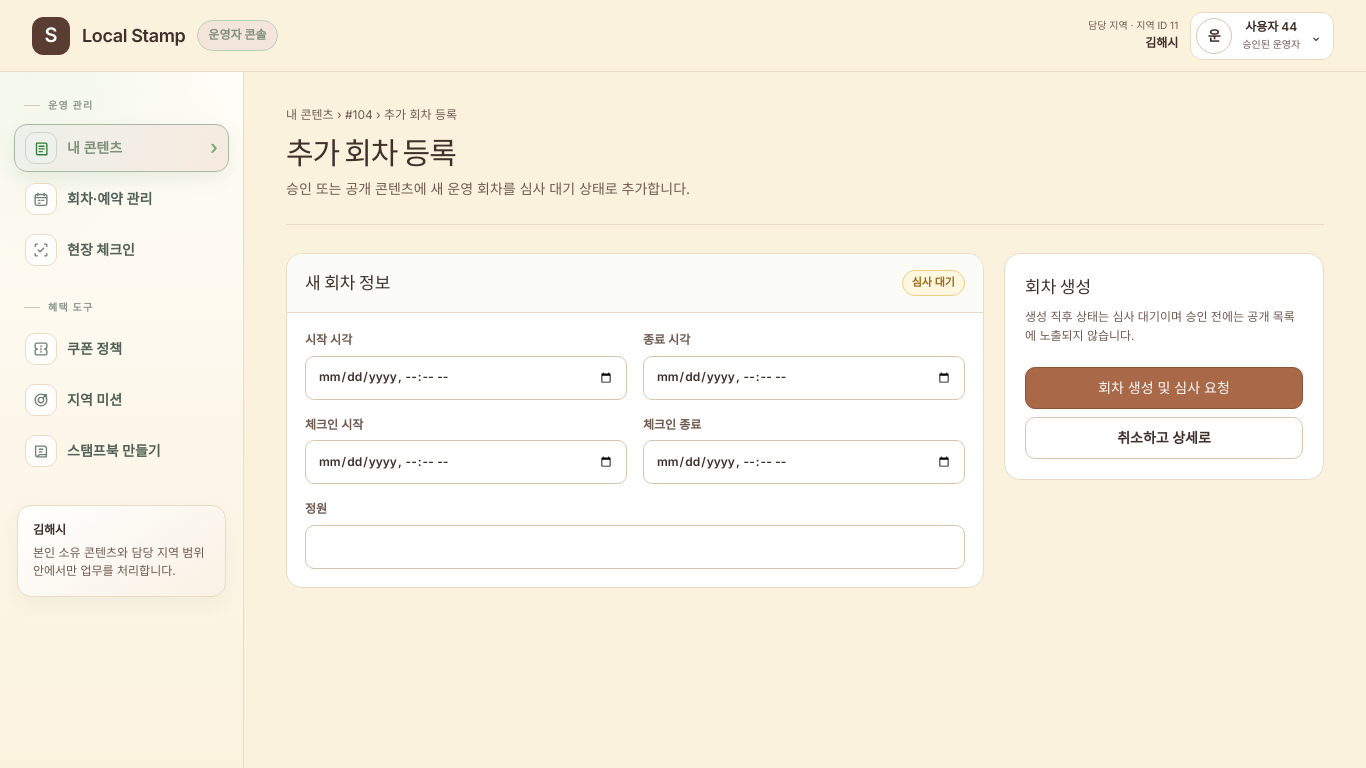
Test: 운영자 회차 생성·변경·취소 흐름 › 생성 성공 후 새 PENDING 회차를 상세 화면에 표시한다
Check: the heading "추가 회차 등록" is shown, box [286, 134, 456, 172]
Type "2099-08-25T10:00" into the field labelled "시작 시각". click: point(466, 378)
box: [305, 356, 627, 400]
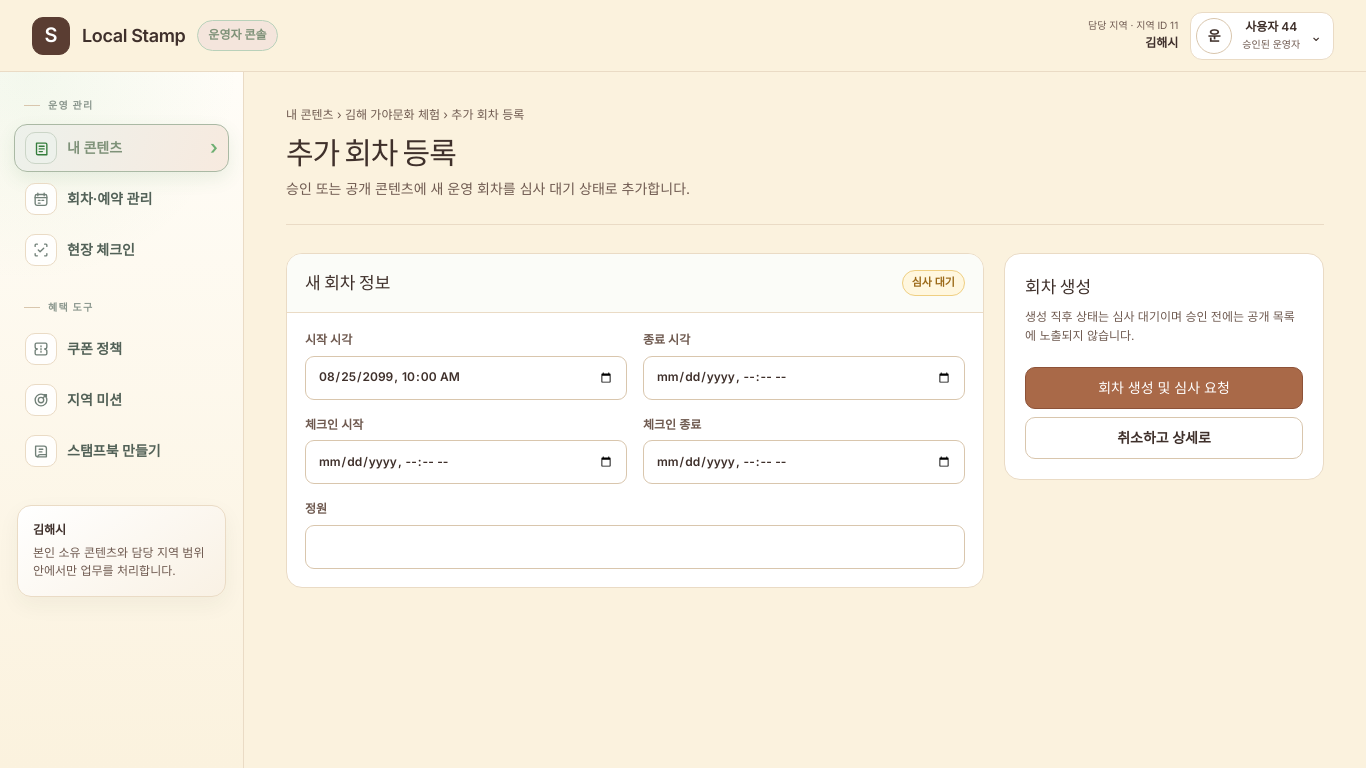
Type "2099-08-25T12:00" into the field labelled "종료 시각". click: point(804, 378)
box: [643, 356, 965, 400]
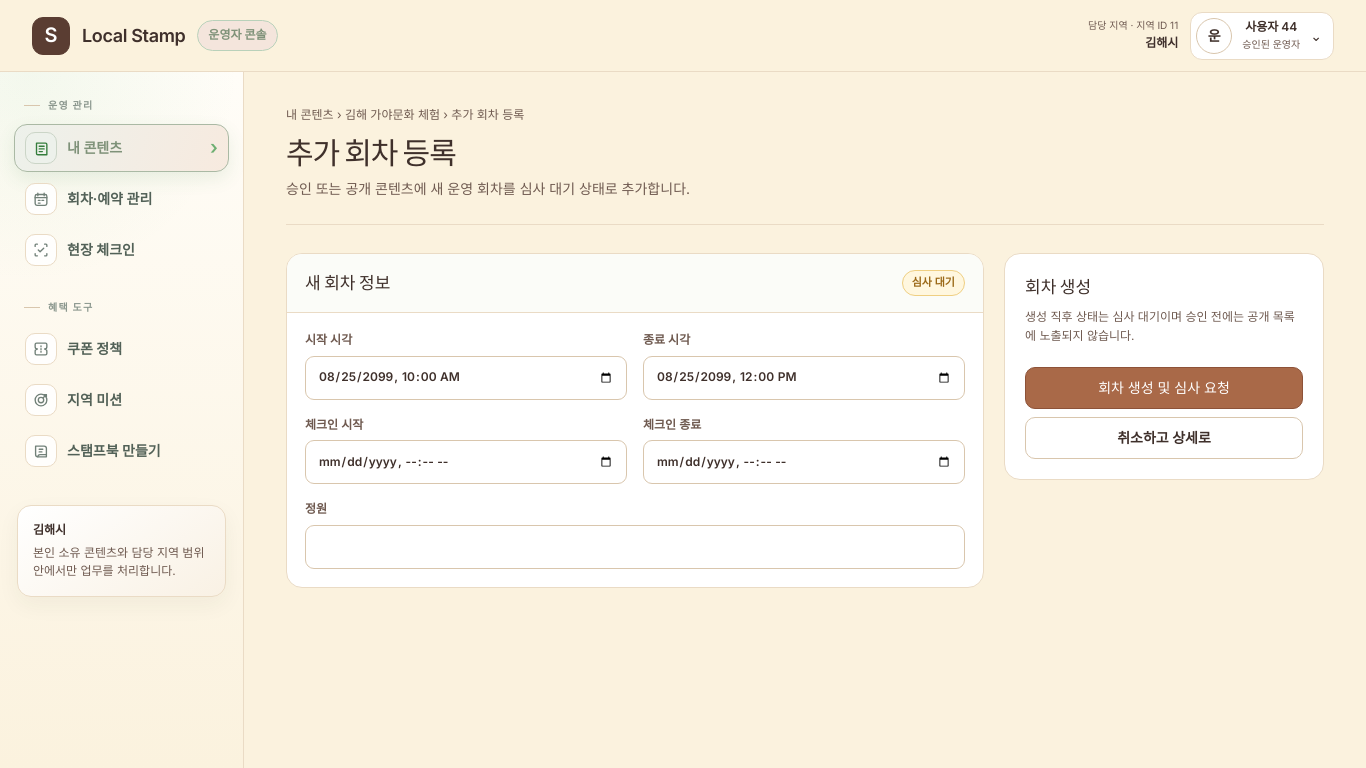
Type "2099-08-25T09:30" into the field labelled "체크인 시작". click: point(466, 462)
box: [305, 440, 627, 484]
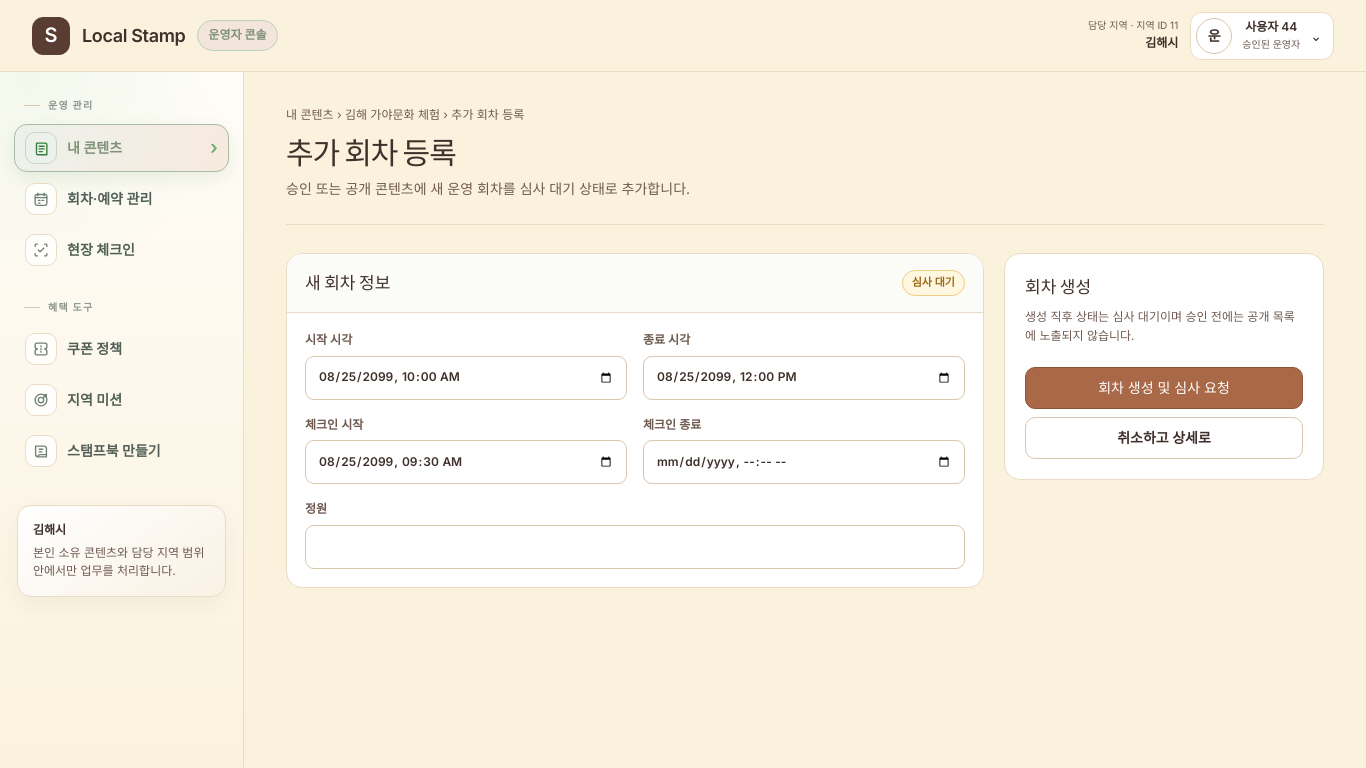
Type "2099-08-25T10:30" into the field labelled "체크인 종료". click: point(804, 462)
box: [643, 440, 965, 484]
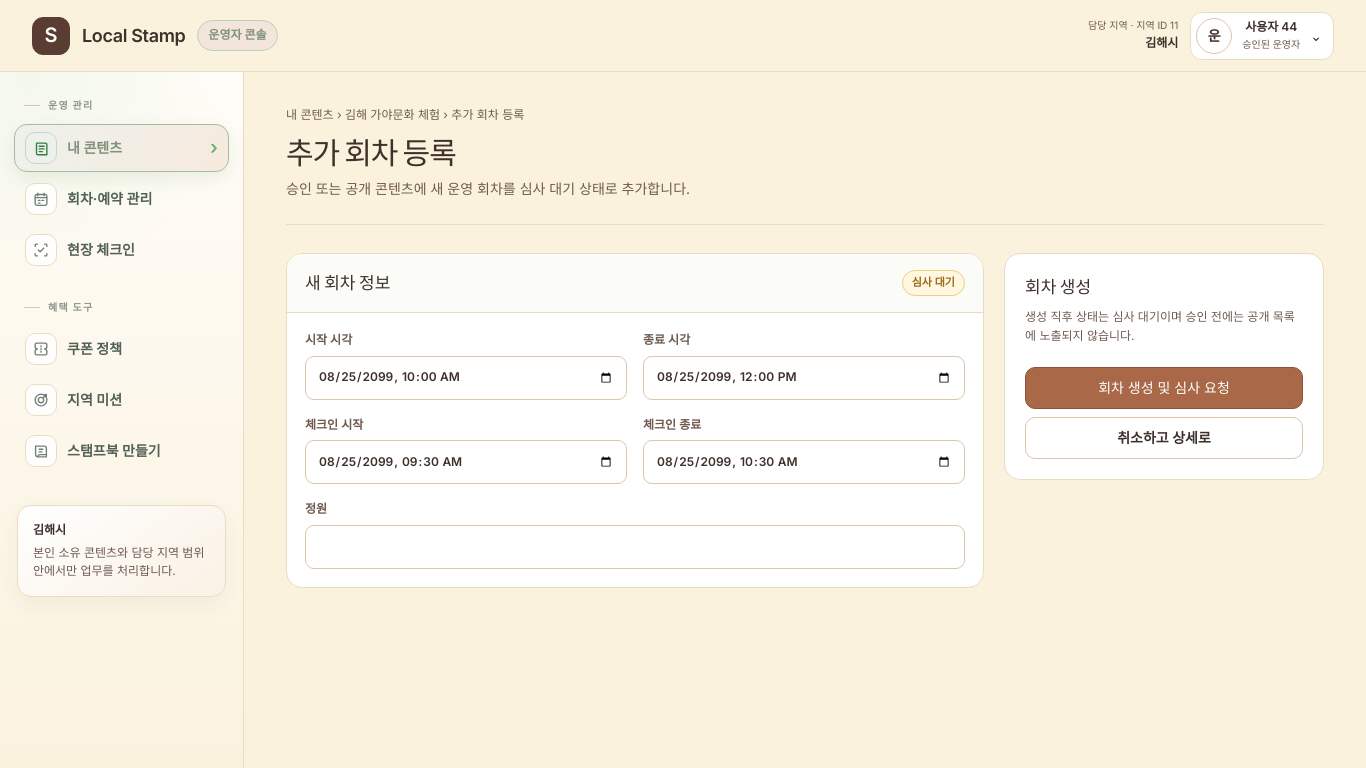
Type "20" into the number field labelled "정원". click: point(635, 547)
box: [305, 525, 965, 569]
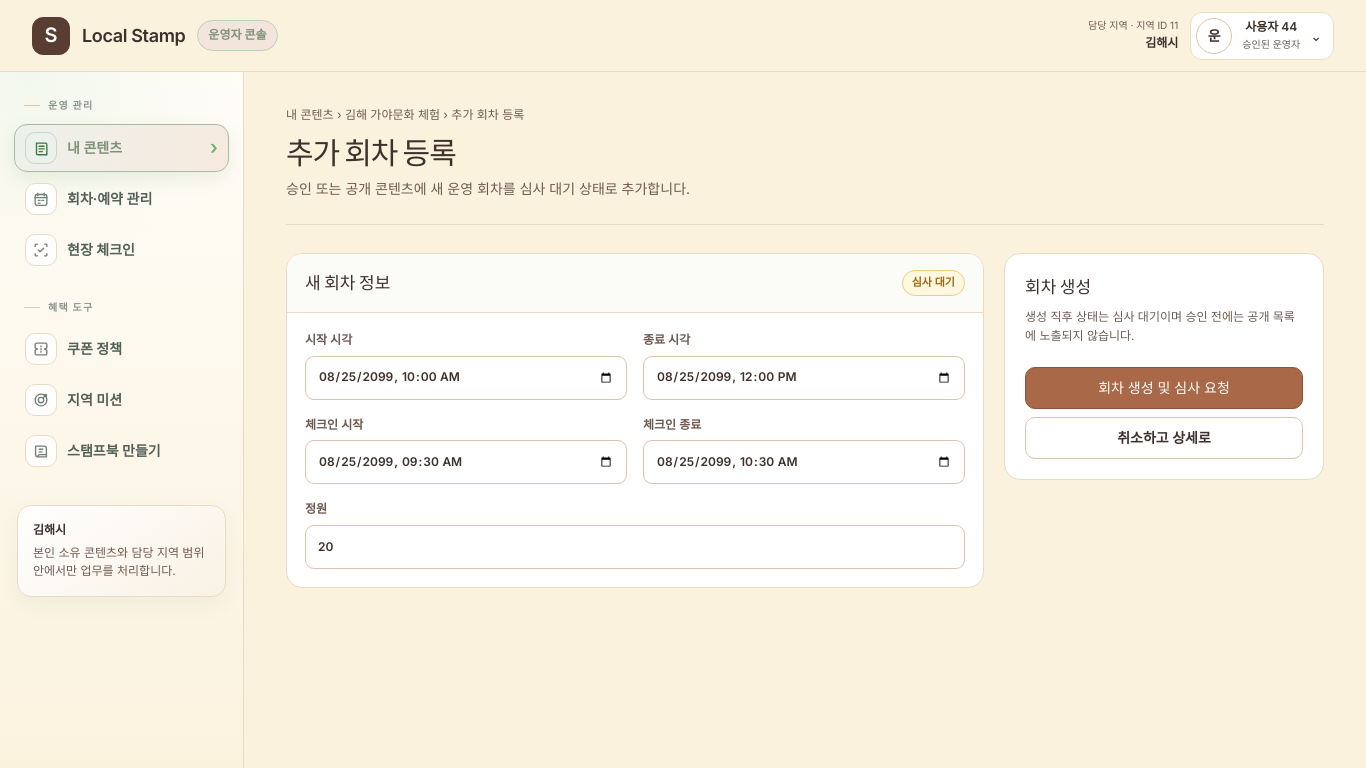
Click the button "회차 생성 및 심사 요청". click: point(1164, 388)
box: [1025, 367, 1303, 409]
(page scrolled)
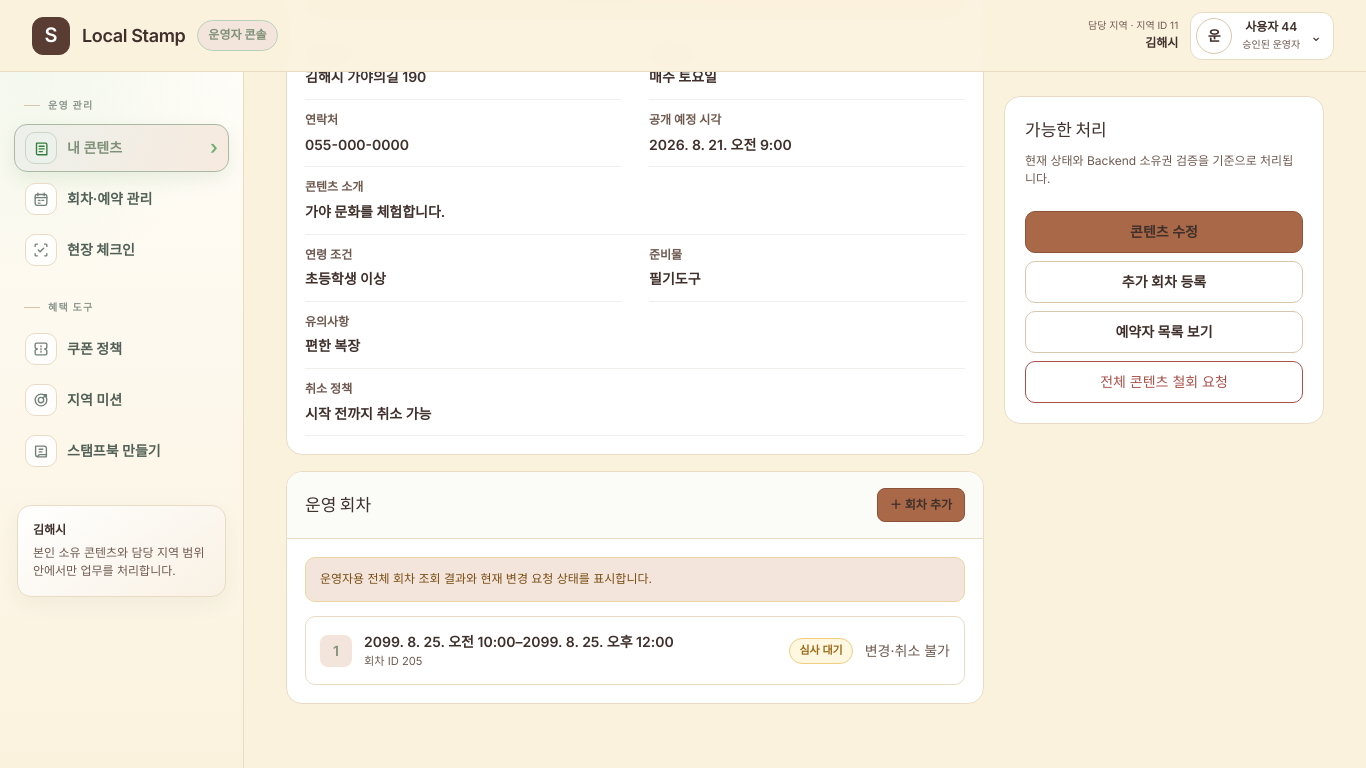
Check: the text "심사 대기" is shown, box [790, 638, 853, 664]
Check: the text "회차 ID 205" is shown, box [364, 654, 422, 668]
